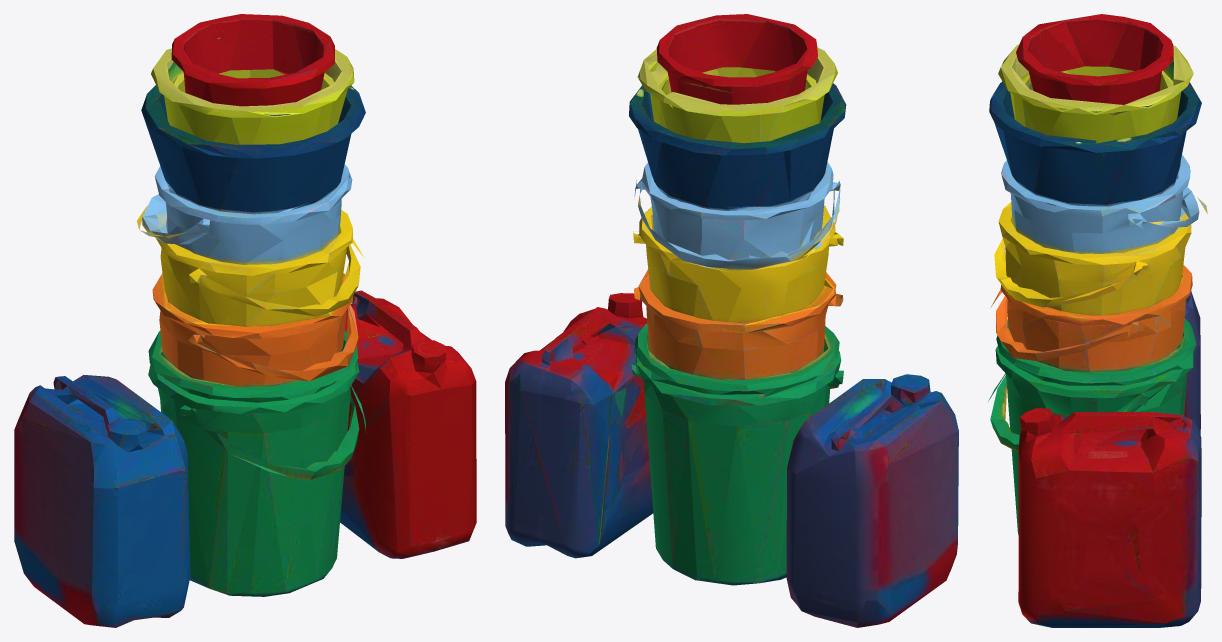
Rendered from buckets.glb.
The picture shows the model from 3 angles, left to right: view 1: azimuth 30°, elevation 25°; view 2: azimuth 150°, elevation 25°; view 3: azimuth 270°, elevation 25°; orthographic projection. The views are drawn at different scales.
Bounding box in the file's own units: 1.5 × 1.9 × 0.7643.
Materials: 1 (1 with a texture image).
